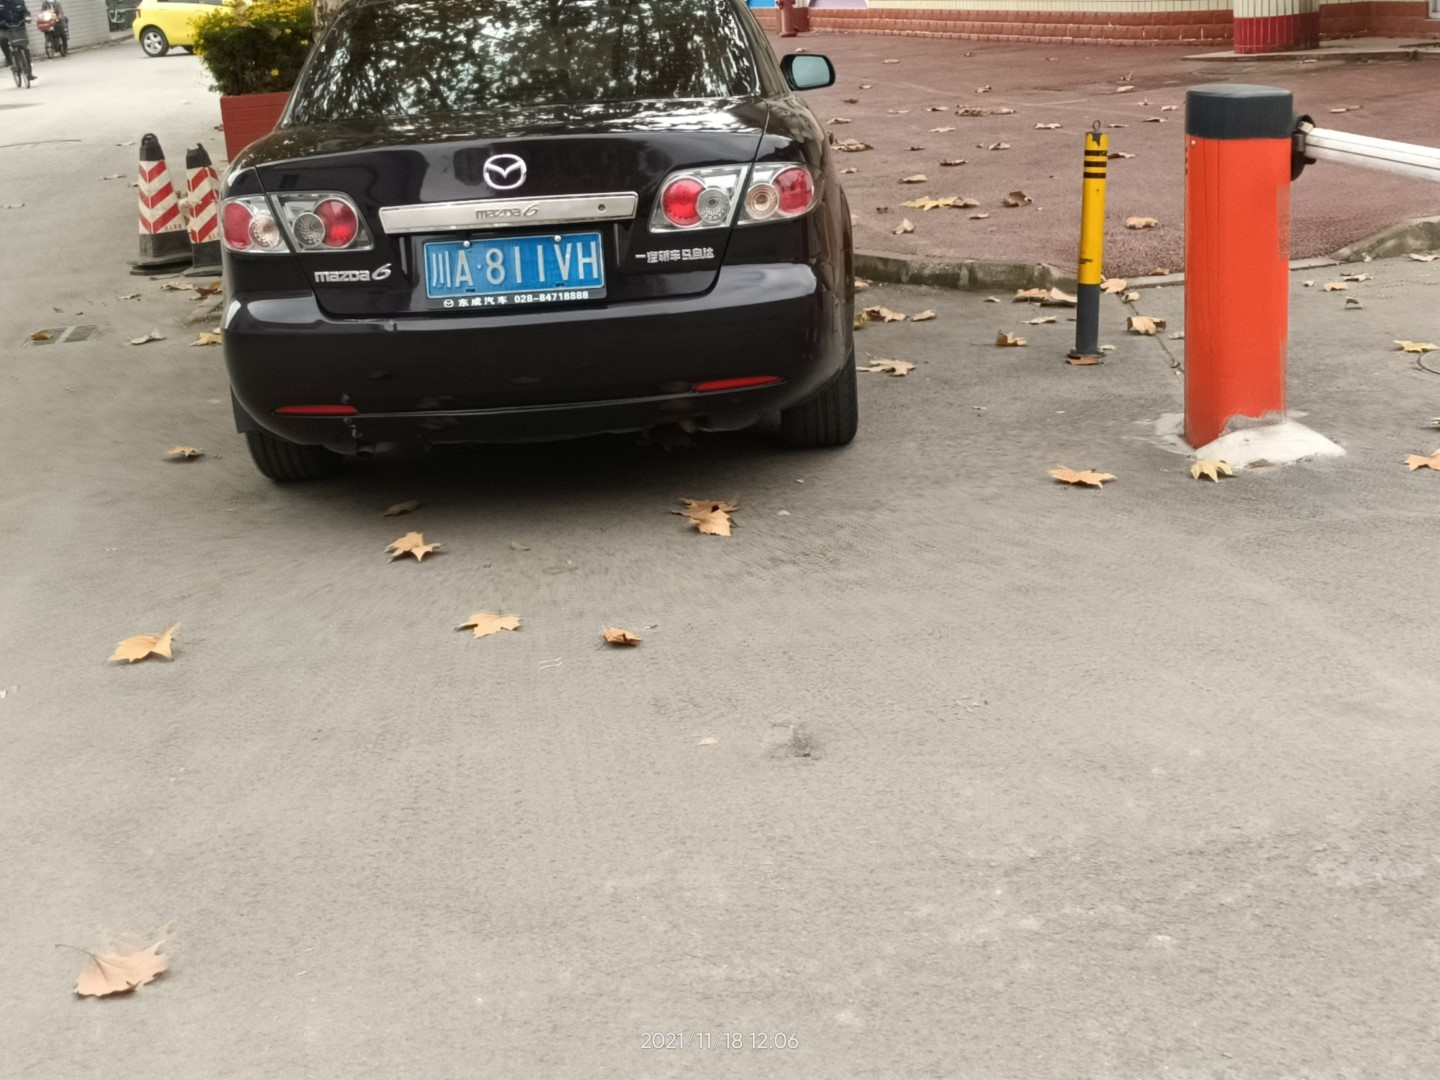plate: (425, 233, 604, 295)
